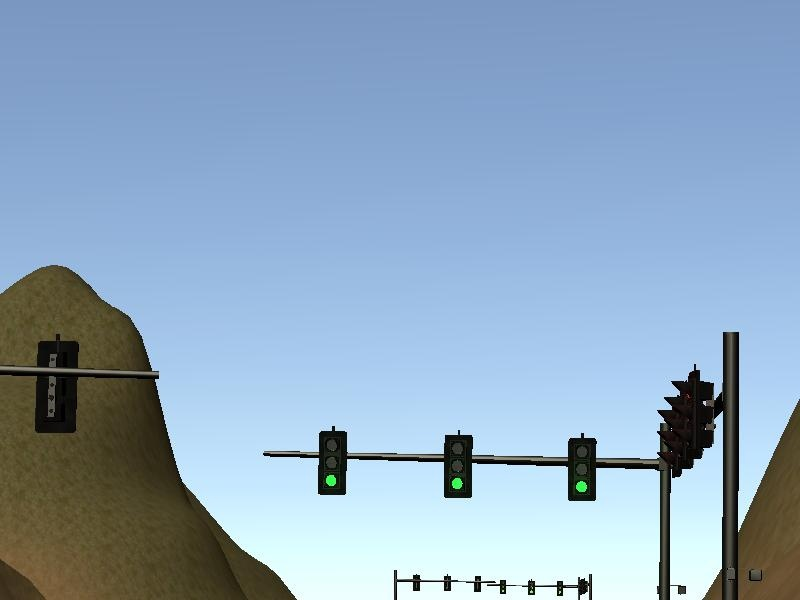GREEN: (565, 435, 600, 504), (316, 429, 350, 496), (441, 432, 474, 501)
